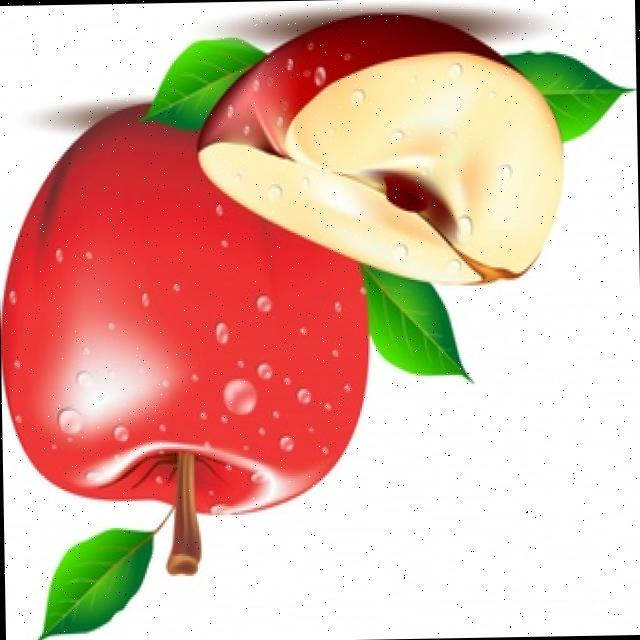Apel: (0, 100, 375, 581), (195, 12, 568, 294)
